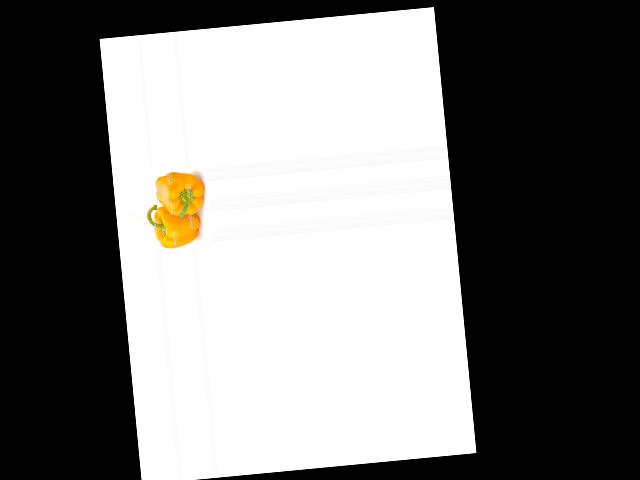bell_pepper: (147, 198, 202, 251)
